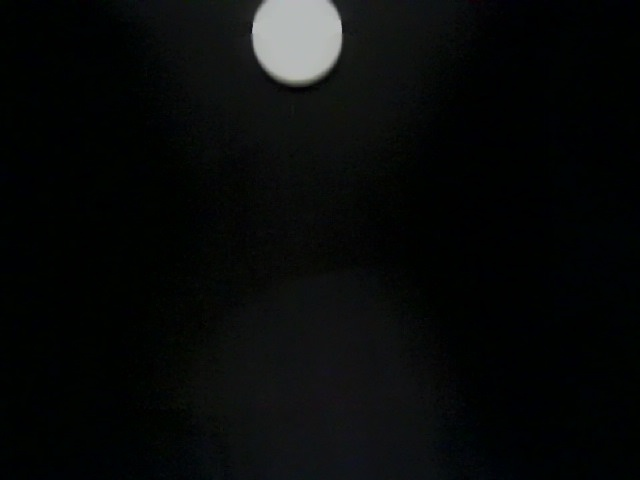YHLJ: (368, 377, 440, 480)
